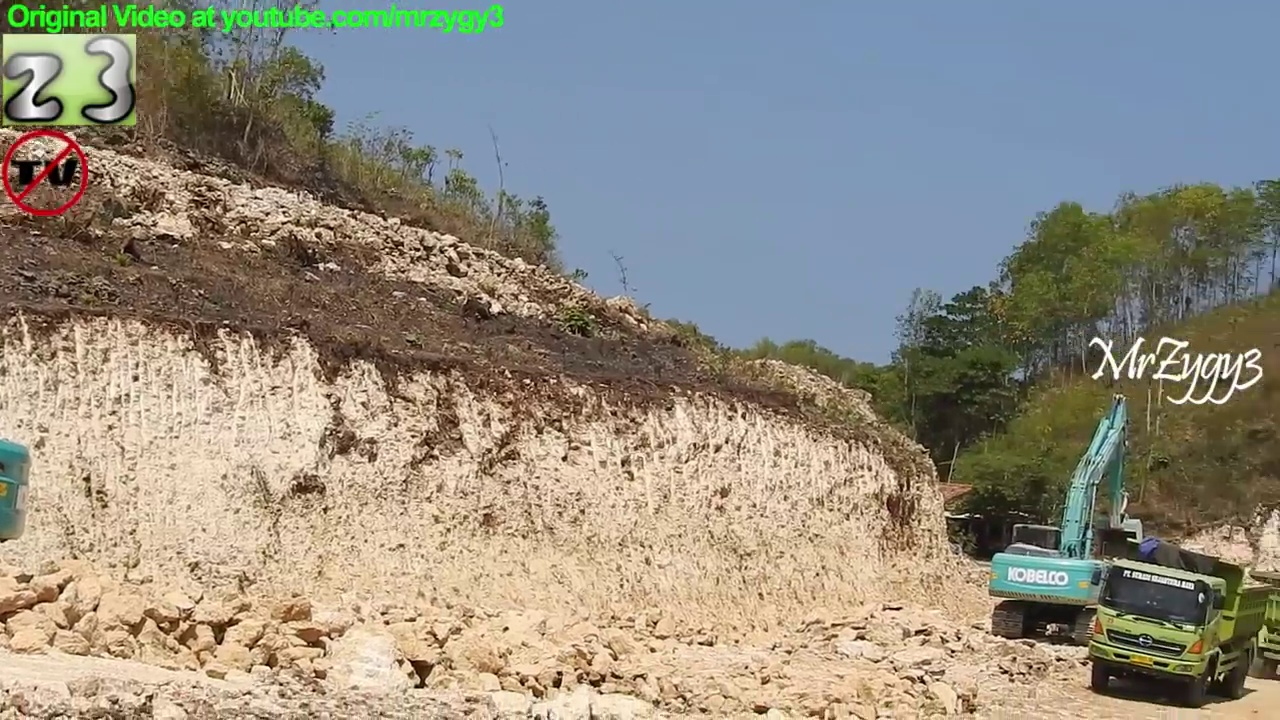excavator: (984, 389, 1150, 650), (1, 433, 38, 554)
truck: (1079, 533, 1274, 712), (1222, 558, 1280, 685)
